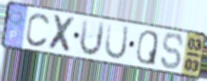C: (25, 12, 52, 49)
Q: (135, 29, 159, 67)
S: (160, 32, 185, 71)
U: (78, 18, 107, 58), (103, 22, 131, 61)
X: (46, 13, 77, 55)
